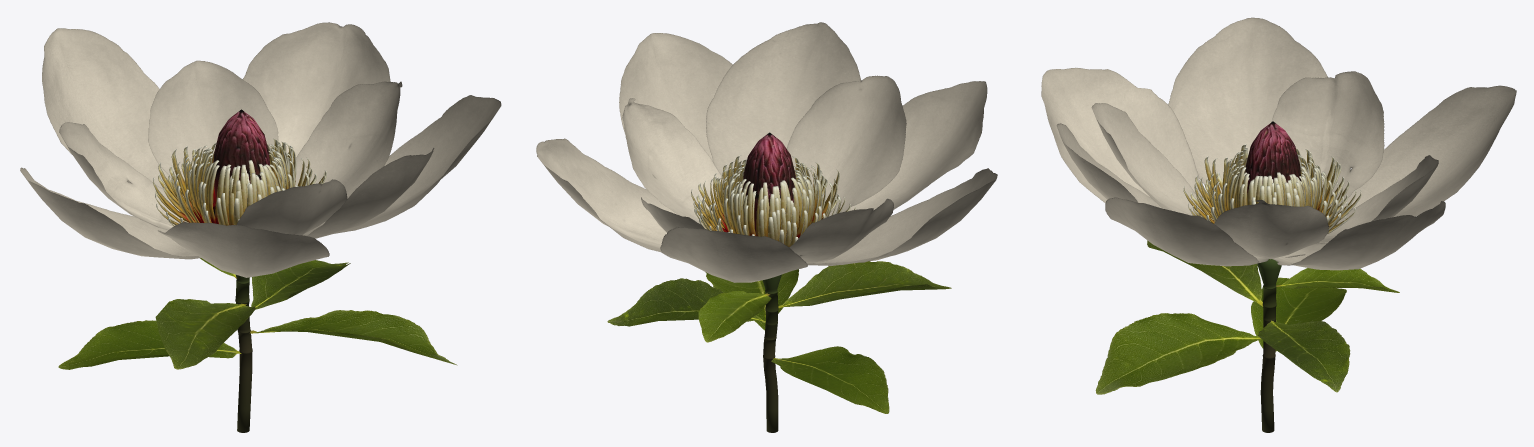
The model's file is Magnolia (Hoa Moc Lan)-V1.glb.
3 renders of one model, left to right at view 1: azimuth 30°, elevation 25°; view 2: azimuth 150°, elevation 25°; view 3: azimuth 270°, elevation 25°, orthographic. The views are drawn at different scales.
Parts seen in each view (by area): view 1: Petal.001, Leaf.001, Pistil.001, Branch.001; view 2: Petal.001, Leaf.001, Pistil.001, Branch.001; view 3: Petal.001, Leaf.001, Pistil.001, Branch.001.
Part boxes in pixels (left/top/right/bottom): Petal.001: left=20, top=22, right=501, bottom=277; Leaf.001: left=58, top=258, right=457, bottom=369; Pistil.001: left=153, top=109, right=326, bottom=226; Branch.001: left=235, top=275, right=252, bottom=432; Petal.001: left=536, top=22, right=997, bottom=282; Leaf.001: left=607, top=261, right=951, bottom=413; Pistil.001: left=691, top=132, right=855, bottom=246; Branch.001: left=762, top=274, right=781, bottom=432; Petal.001: left=1041, top=17, right=1516, bottom=270; Leaf.001: left=1095, top=240, right=1399, bottom=394; Pistil.001: left=1183, top=121, right=1361, bottom=233; Branch.001: left=1257, top=259, right=1281, bottom=432.
Bounding box in the file's own units: 0.3468 × 0.267 × 0.3516.
Materials: 3 (3 with a texture image).
